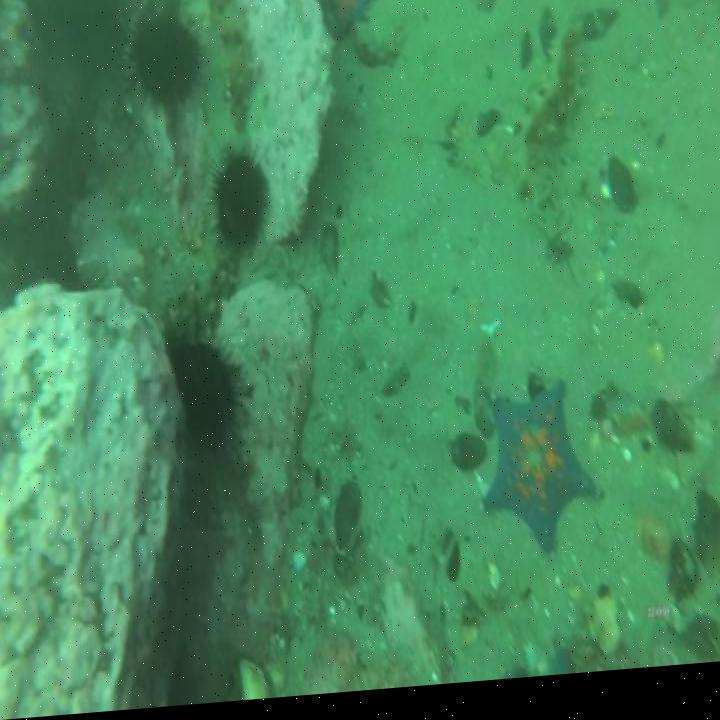echinus: (168, 336, 244, 471), (125, 7, 201, 125), (206, 142, 271, 264)
holothurian: (513, 34, 585, 161), (200, 0, 254, 138)
starfish: (482, 383, 606, 574), (325, 0, 383, 45)
